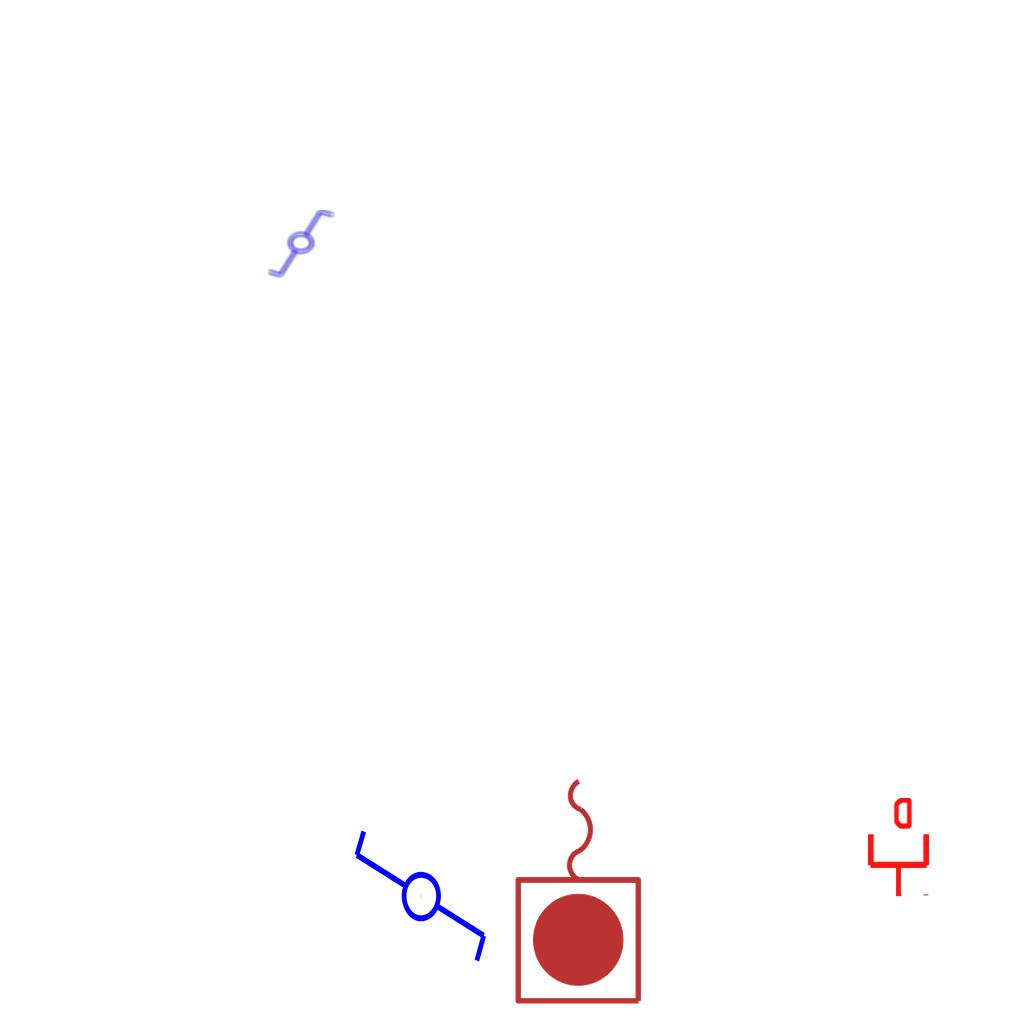Datenanschluss_einfach: (864, 798, 933, 898)
Wechselschalter: (347, 826, 491, 983), (266, 208, 344, 280)
Zugtaster: (508, 768, 652, 1012)
